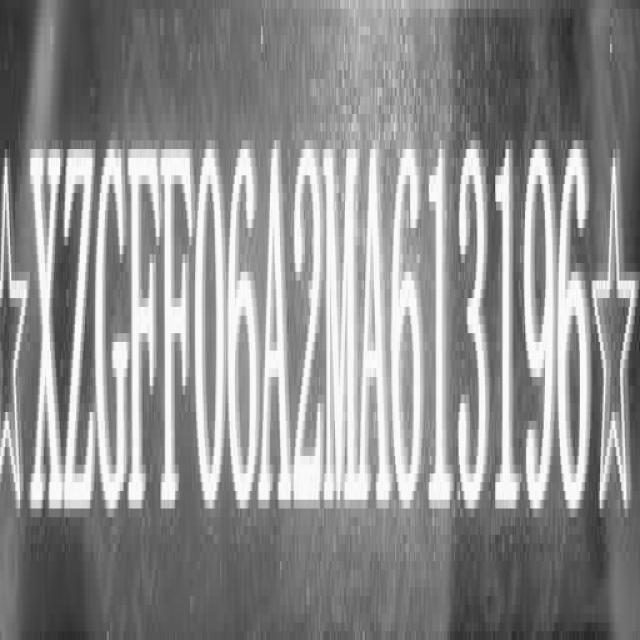0: (195, 135, 228, 521)
1: (429, 137, 454, 519), (496, 135, 517, 522)
2: (294, 140, 327, 519)
3: (459, 138, 487, 523)
6: (227, 133, 260, 518), (393, 134, 425, 518), (558, 145, 590, 526)
9: (524, 139, 556, 517)
A: (257, 133, 293, 523), (360, 134, 389, 520)
F: (131, 130, 162, 526), (163, 130, 194, 524)
G: (97, 138, 131, 526)
M: (327, 135, 361, 520)
X: (29, 129, 60, 525)
Z: (63, 132, 95, 527)
